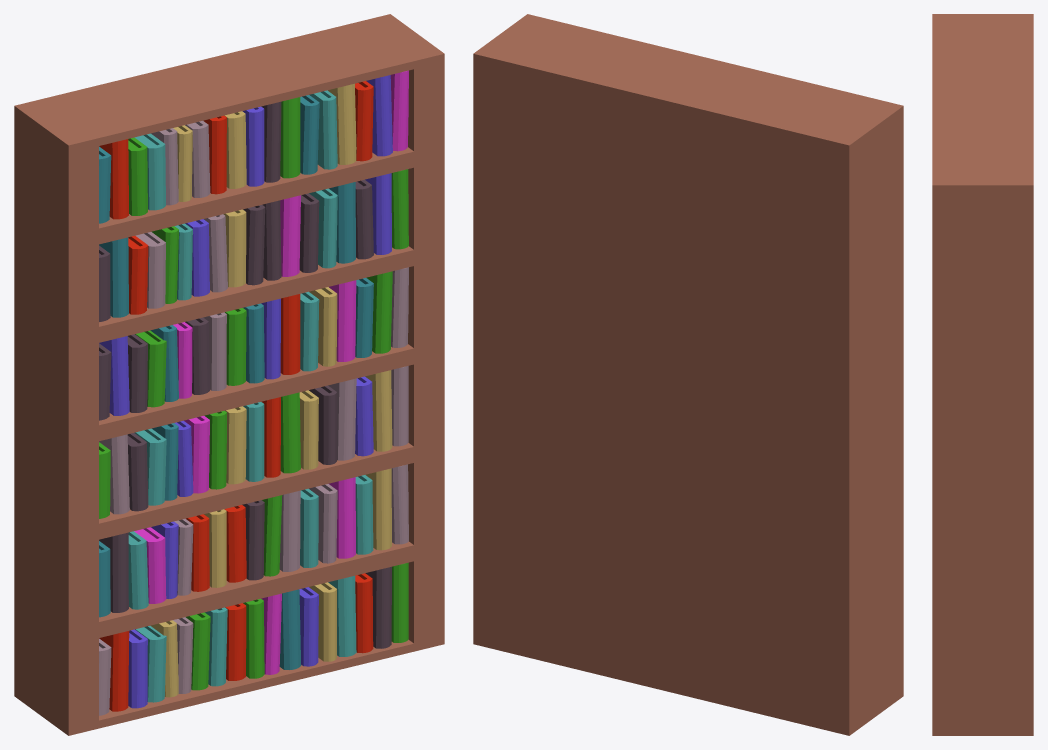
File: book_shelf.glb
3 renders of one model, left to right at view 1: azimuth 30°, elevation 25°; view 2: azimuth 150°, elevation 25°; view 3: azimuth 270°, elevation 25°, orthographic. The views are drawn at different scales.
Visible parts, largest first — view 1: shelf, Cube.108, Cube.070, Cube.039, Cube.111, Cube.031, Cube.083, Cube.075, Cube.078, Cube.073, Cube.045, Cube.113 (+97 smaller); view 2: shelf; view 3: shelf.
Part boxes in pixels (x1,y1,x2,y2): shelf: [14, 14, 444, 735]; Cube.108: [280, 97, 300, 178]; Cube.070: [280, 294, 300, 374]; Cube.039: [365, 370, 392, 451]; Cube.111: [328, 83, 356, 164]; Cube.031: [279, 490, 300, 571]; Cube.083: [280, 195, 300, 276]; Cube.075: [366, 271, 392, 353]; Cube.078: [365, 173, 391, 254]; Cube.073: [329, 280, 356, 361]; Cube.045: [280, 392, 300, 473]; Cube.113: [366, 75, 392, 156]; shelf: [473, 14, 903, 735]; shelf: [932, 14, 1033, 735].
Size of the model in its own units: 1.22 by 1.83 by 0.3048.
